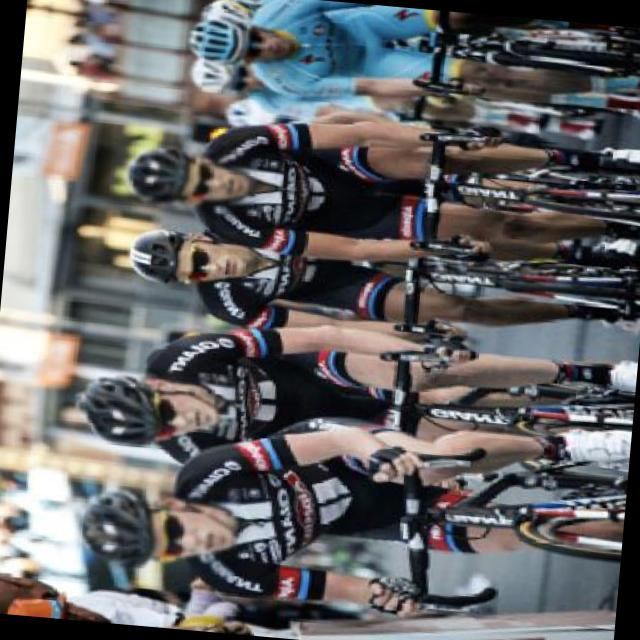With Helmet: (54, 472, 244, 582), (51, 360, 242, 462), (108, 137, 262, 220), (114, 218, 260, 296), (176, 4, 298, 74), (185, 52, 272, 98)
